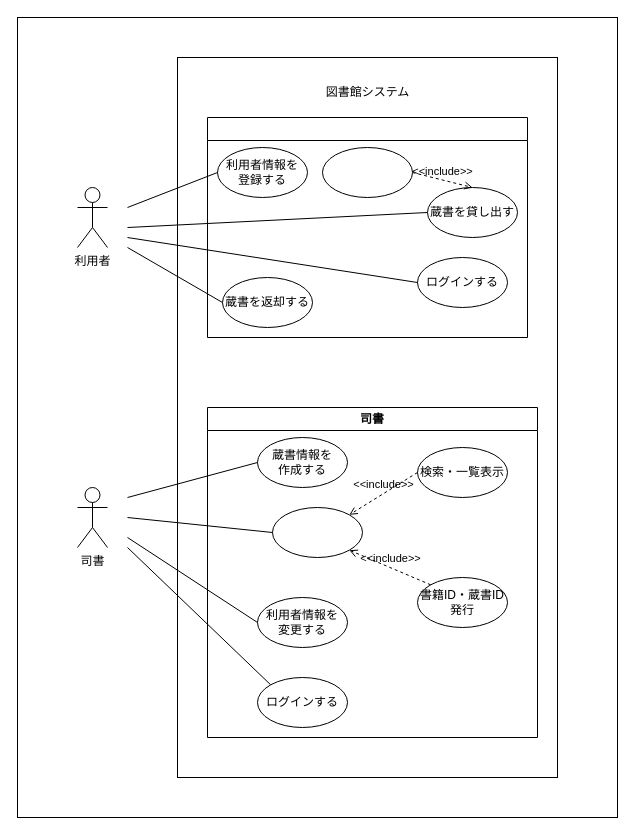
Image size: 635x835. Some labels were removed from this diagram. Each missing label, with the box of its shape:
一般: (206, 116, 528, 338)
蔵書を予約する: (322, 146, 412, 198)
蔵書情報を 管理する: (272, 506, 362, 558)
